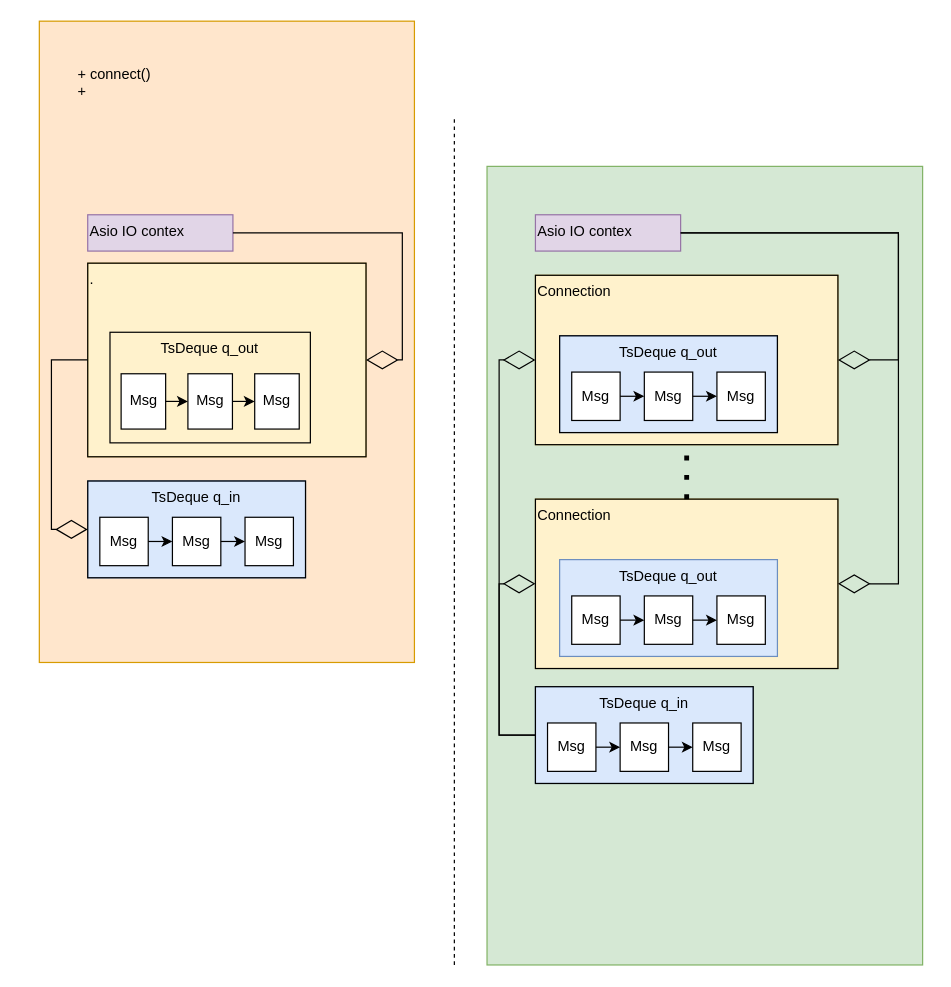
This 951x987 diagram has some shape labels left out. Each missing label, with the box of its shape:
Client: (38, 20, 414, 662)
Server: (486, 165, 923, 965)
